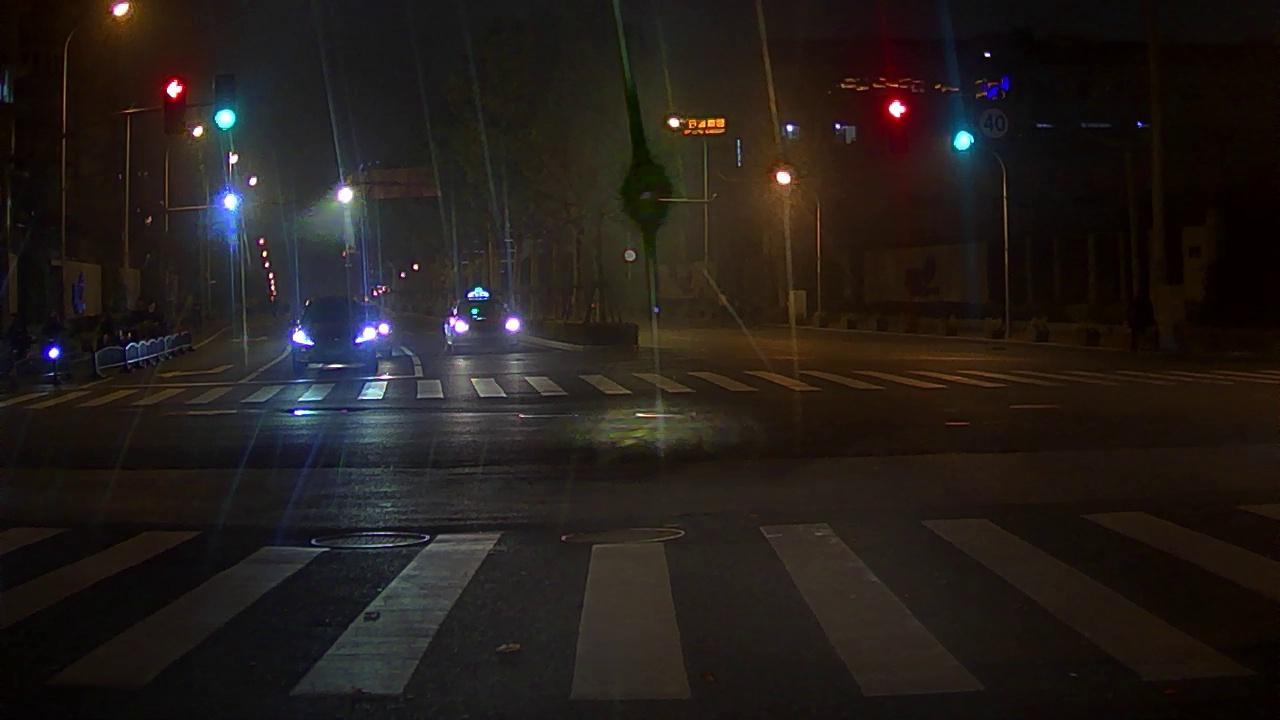traffic_light: (164, 76, 189, 131), (213, 74, 237, 131), (953, 99, 975, 159), (887, 96, 907, 152)
